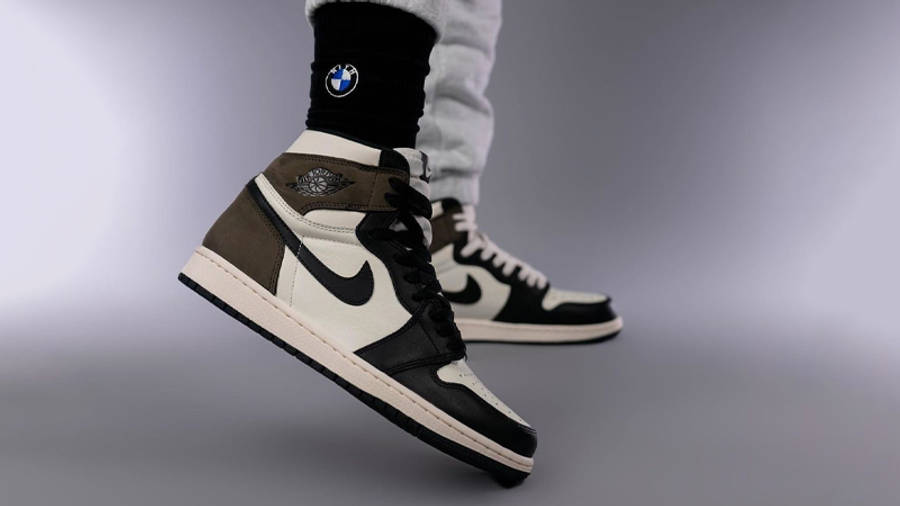Jordan 1: (173, 130, 548, 486)
